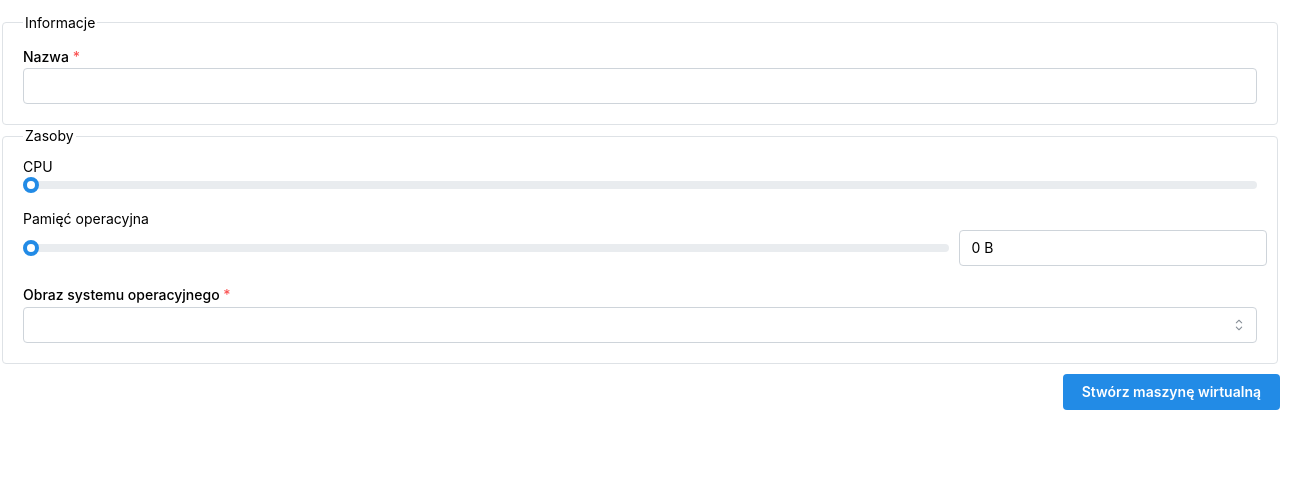
Test: VirtualMachineCreateFormContainer › should show empty values validation errors
Click the button "Stwórz maszynę wirtualną": (1171, 392) x1=1063 y1=374 x2=1280 y2=410
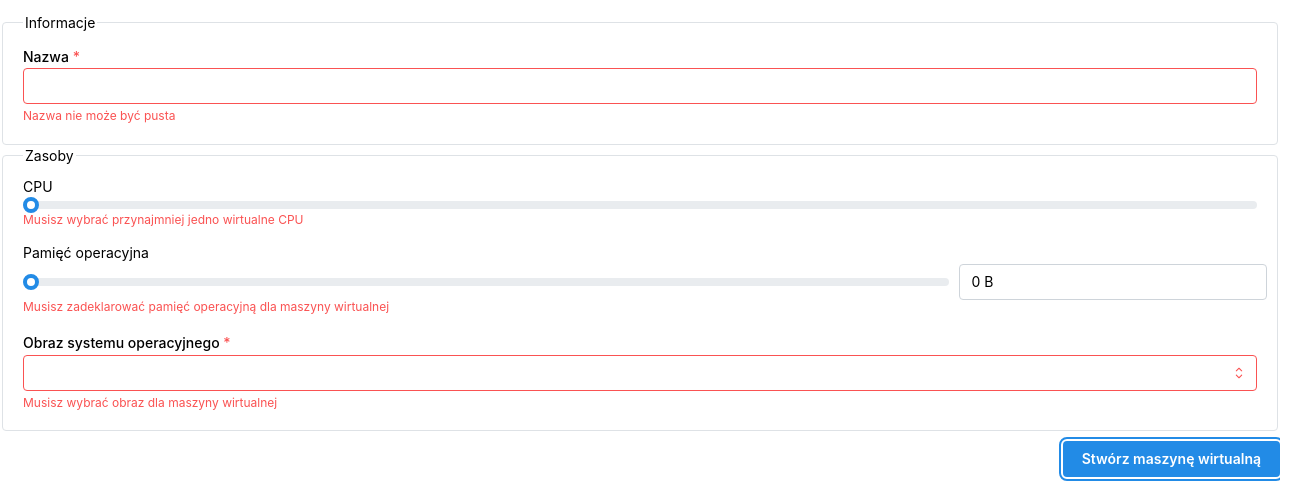
Expected: the text "Nazwa nie może być pusta" is shown, x1=23 y1=108 x2=175 y2=124
Expected: the text "Musisz wybrać przynajmniej jedno wirtualne CPU" is shown, x1=23 y1=212 x2=304 y2=227
Expected: the text "Musisz zadeklarować pamięć operacyjną dla maszyny wirtualnej" is shown, x1=23 y1=298 x2=389 y2=314
